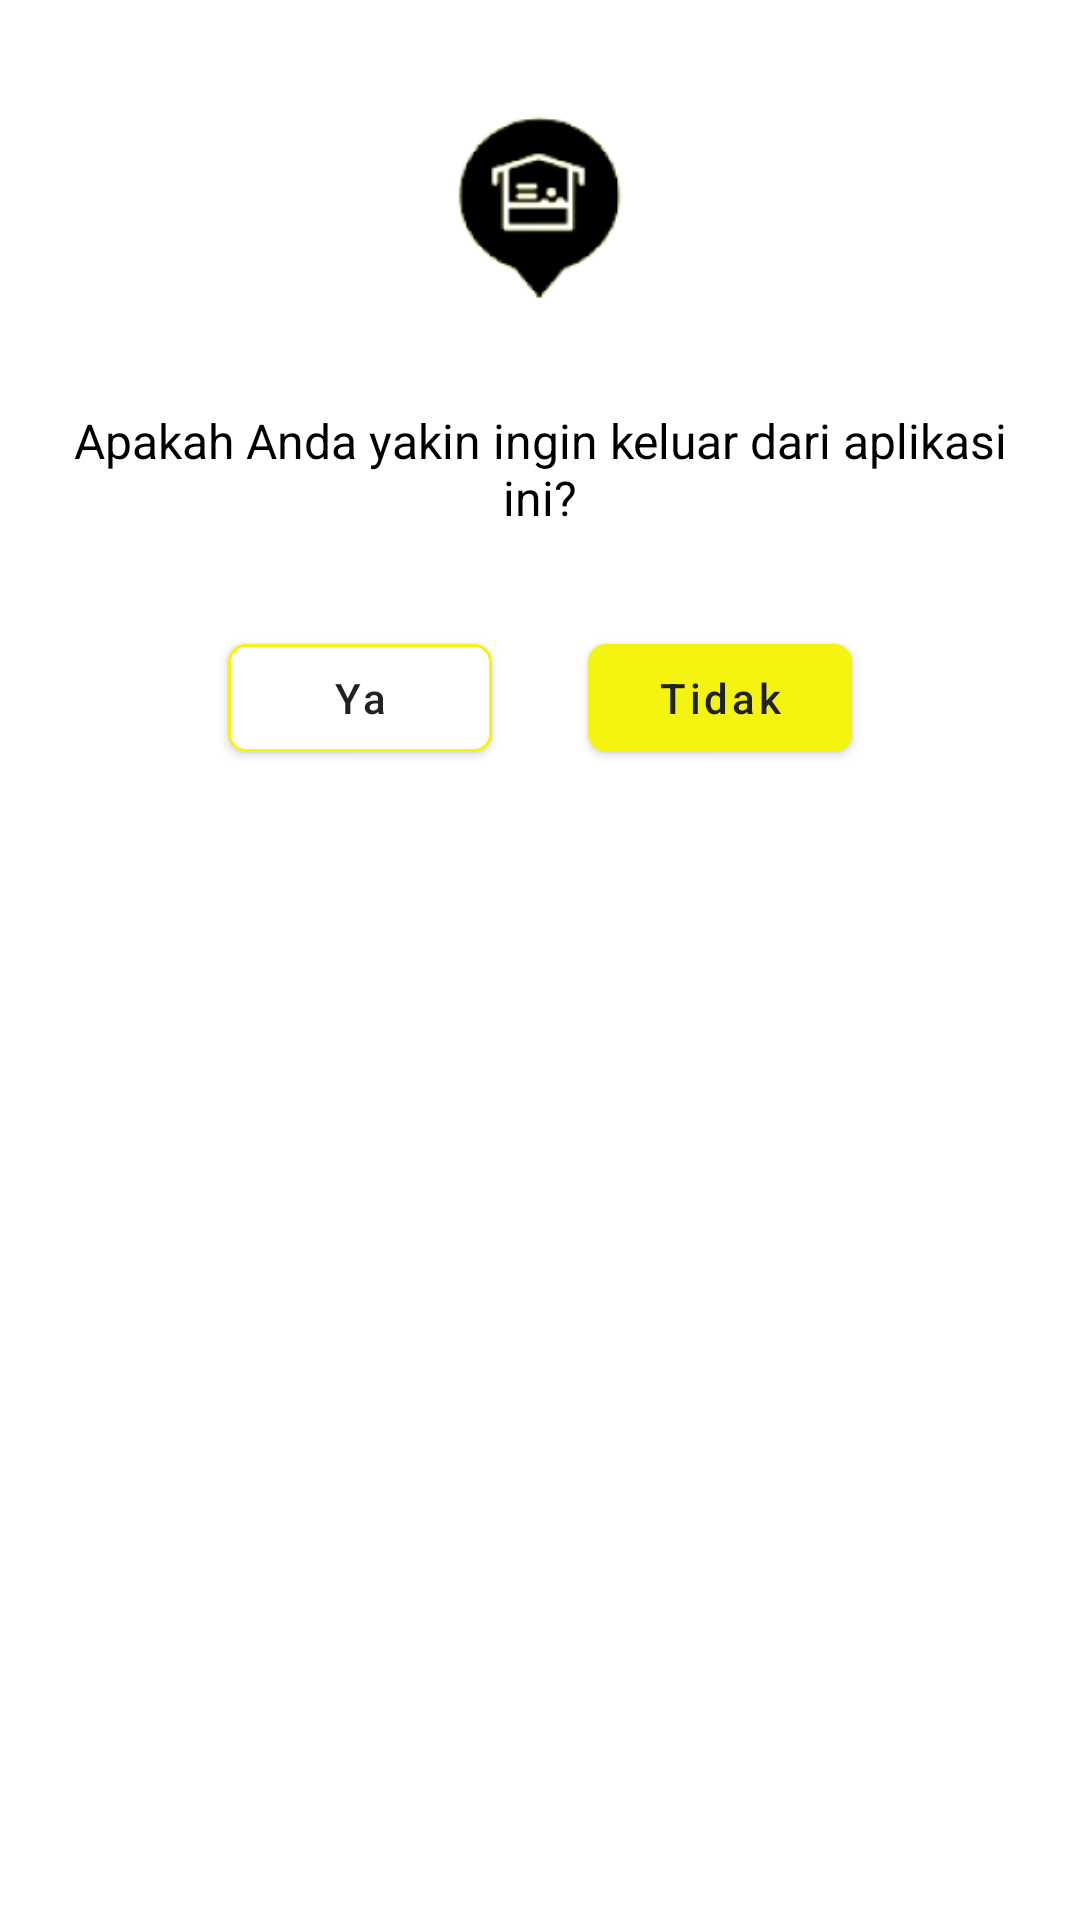

Screen size 1080w x 1920h. Icon name, then its box in pixels as (x1, y1, x2, y2):
trend marketplace: (458, 117, 621, 298)
